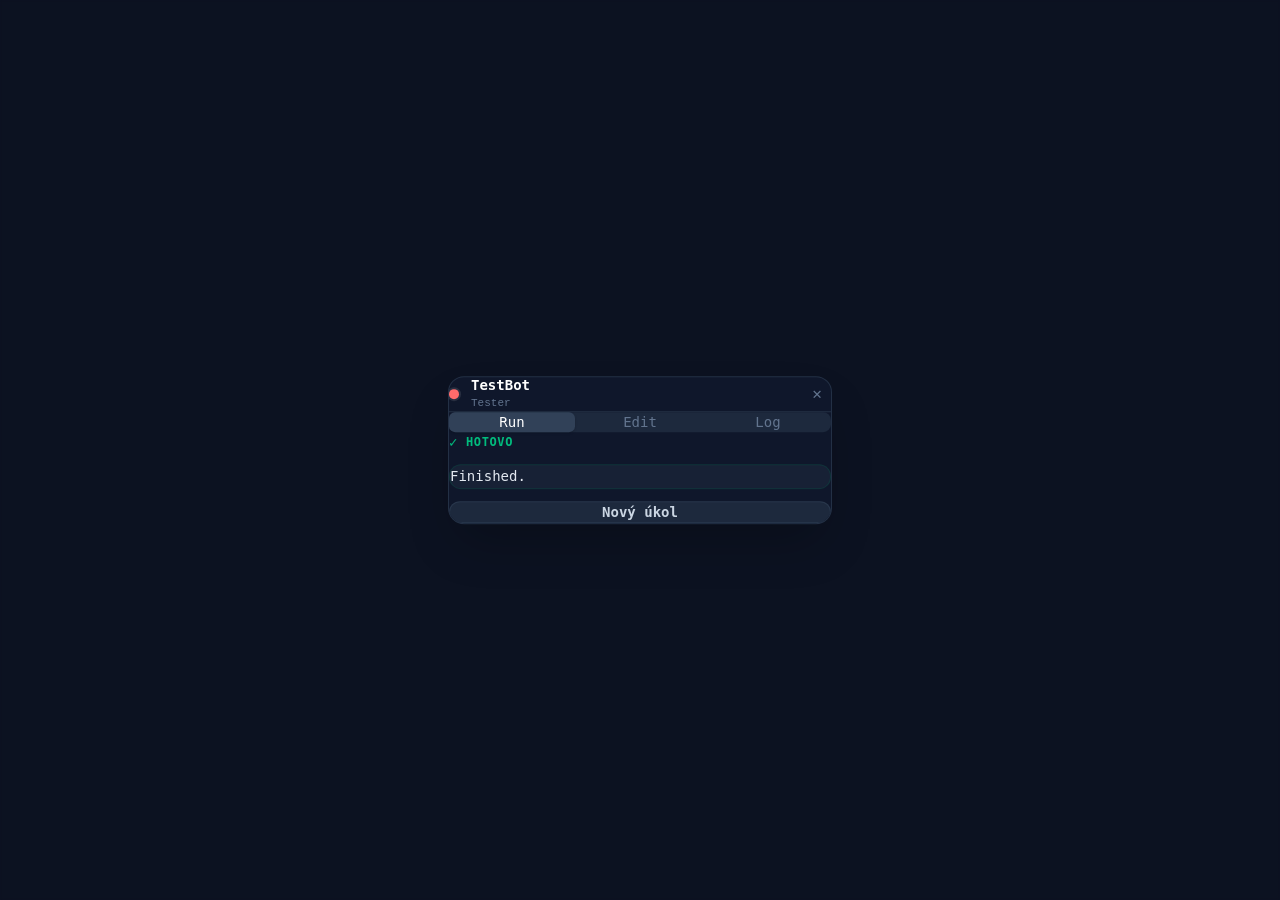
Test case: AgentPanel wait-delivery: Edit tab still works during non-idle phase › can switch to Edit tab after done
Step 1. Click the button with test id "tab-edit" → (640, 422), box x1=577 y1=412 x2=703 y2=432
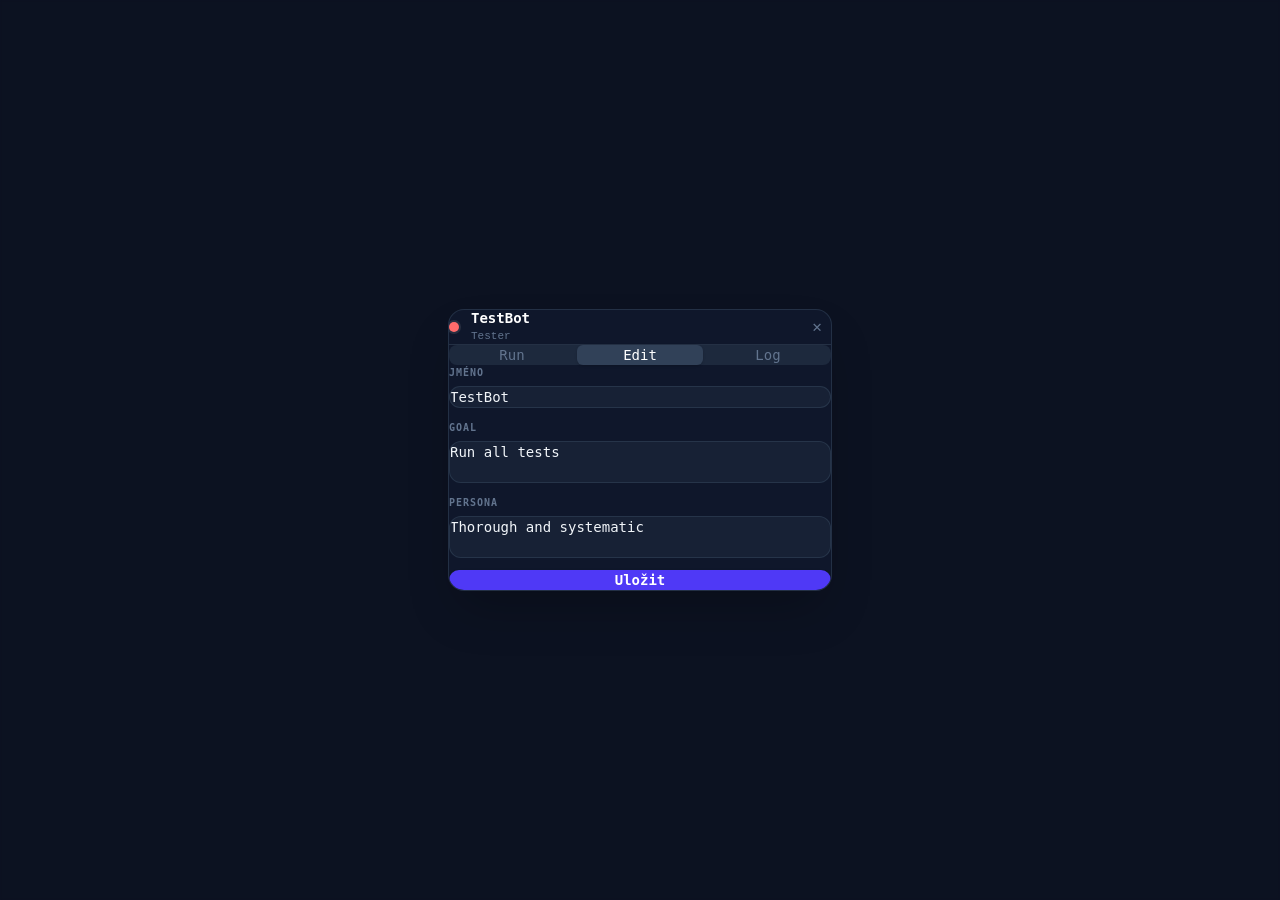
Result: the field with test id "edit-name-input" is shown at x1=449 y1=386 x2=831 y2=408
